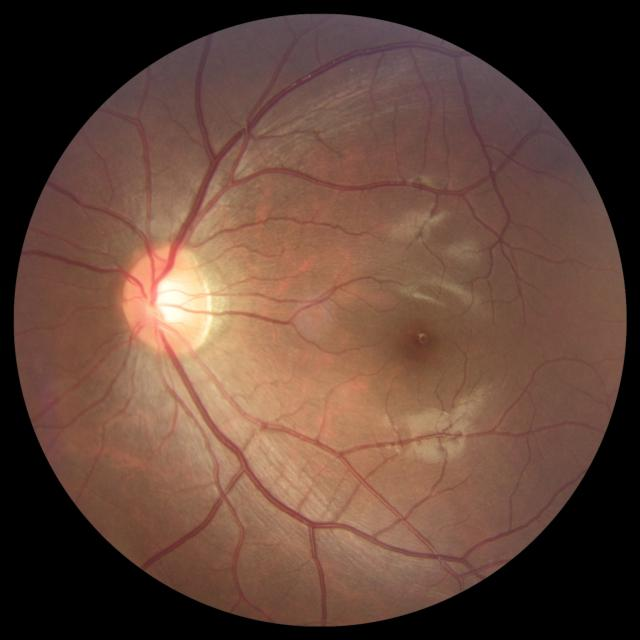OC: (146, 276, 190, 326)
OD: (122, 244, 214, 356)
